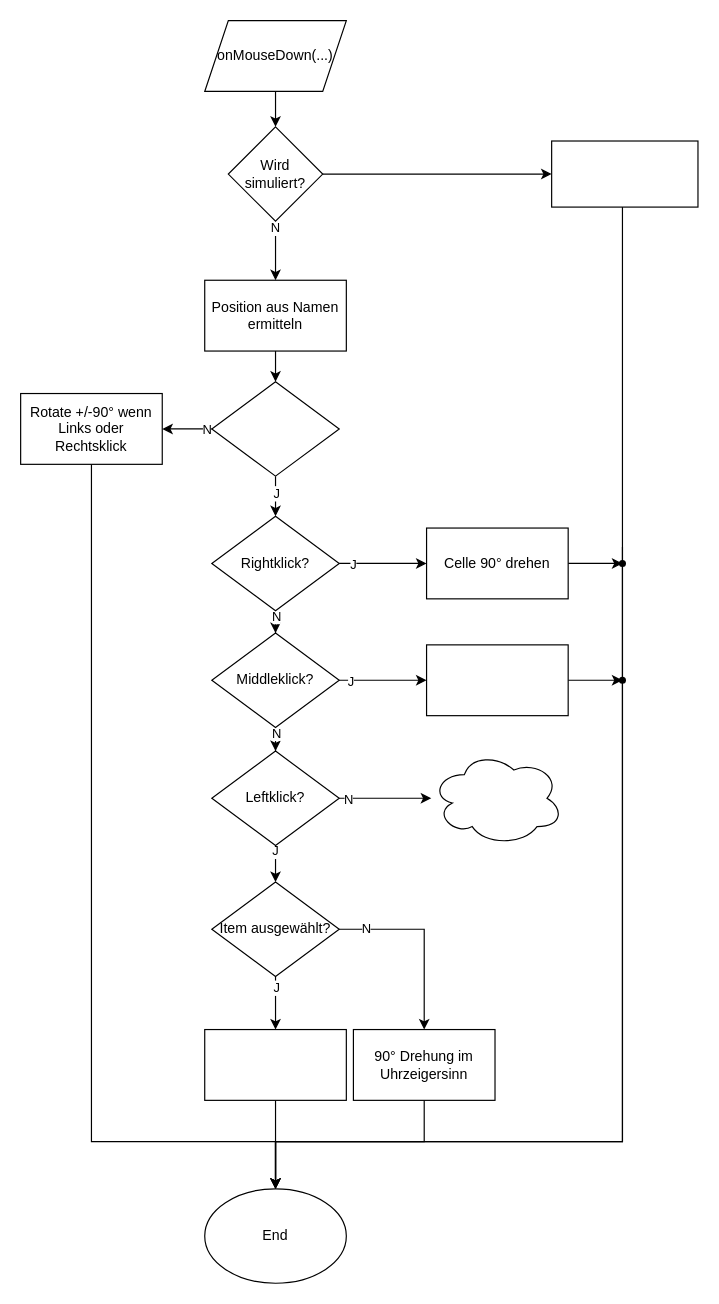
This 719x1304 diagram has some shape labels left out. Each missing label, with the centre of its shape:
"Feld auf alles Wände setzen" goes at (x=496, y=680).
"In Editormodus?" goes at (x=275, y=428).
"Nutzer aufmerksam, auf keine Interaktionen möglich, machen." goes at (x=624, y=173).
"Setzen des ausgewählten Items" goes at (x=275, y=1064).
"Wird nicht passieren." goes at (x=496, y=797).
